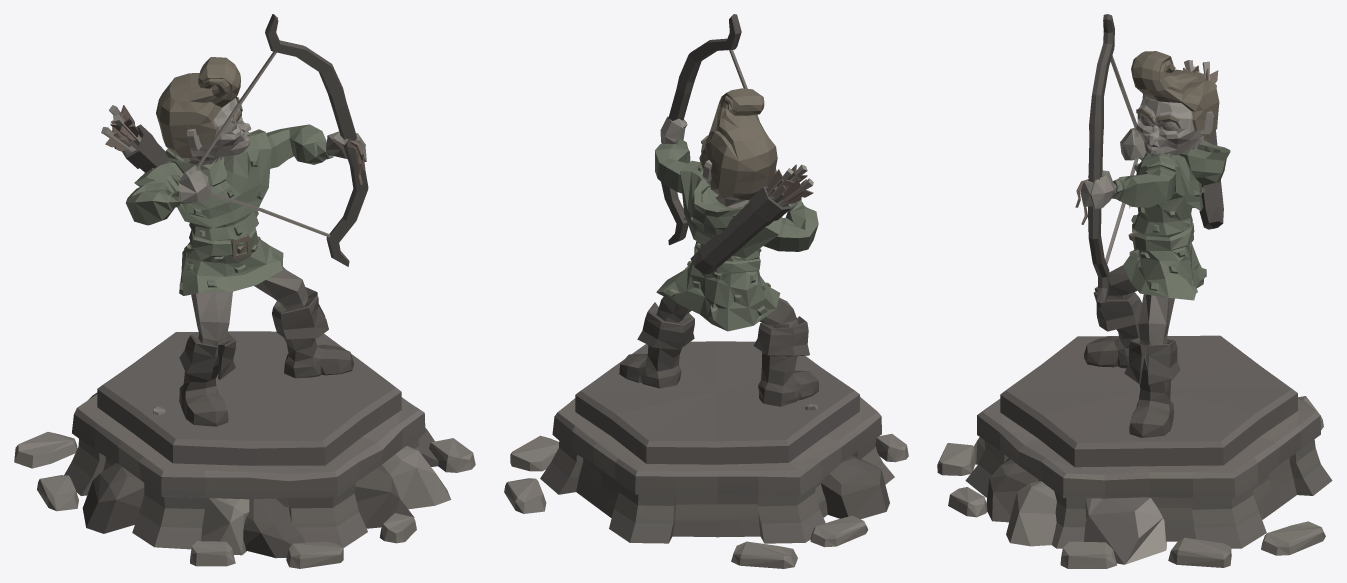
File: tempStoneHero.fbx
The picture shows the model from 3 angles, left to right: view 1: azimuth 30°, elevation 25°; view 2: azimuth 150°, elevation 25°; view 3: azimuth 270°, elevation 25°; orthographic projection. The views are drawn at different scales.
Parts seen in each view (by area): view 1: tempStoneHero; view 2: tempStoneHero; view 3: tempStoneHero.
Part boxes in pixels (x1,y1,x2,y2): tempStoneHero: [14, 14, 475, 568]; tempStoneHero: [504, 14, 908, 568]; tempStoneHero: [937, 14, 1332, 568].
Size of the model in its own units: 2.61 by 3.31 by 2.51.
1 material, 1 textured.
